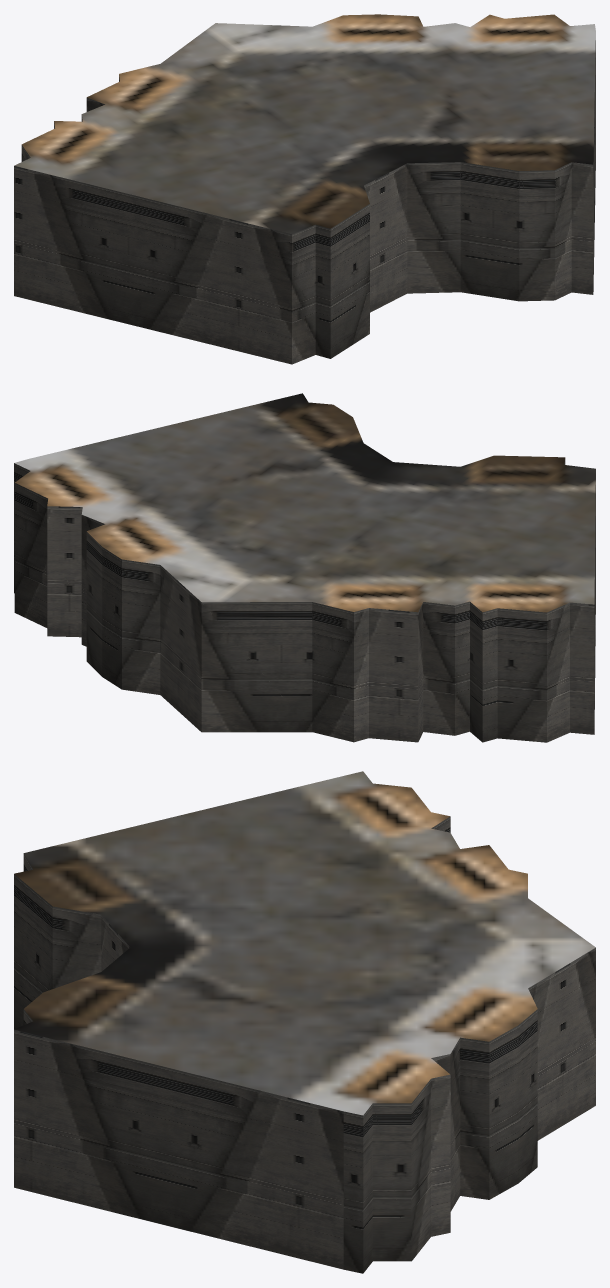
Rendered from fortress_light_a_20.glb.
3 views of the same model, one above another, from view 1: azimuth 30°, elevation 25°; view 2: azimuth 150°, elevation 25°; view 3: azimuth 270°, elevation 25° (orthographic). The views are drawn at different scales.
Visible parts, largest first — view 1: buildings/saxarba/fortress_light/fortress_light_a_20; view 2: buildings/saxarba/fortress_light/fortress_light_a_20; view 3: buildings/saxarba/fortress_light/fortress_light_a_20.
Part boxes in pixels (x1,y1,x2,y2): buildings/saxarba/fortress_light/fortress_light_a_20: (14, 14, 595, 364); buildings/saxarba/fortress_light/fortress_light_a_20: (14, 393, 595, 742); buildings/saxarba/fortress_light/fortress_light_a_20: (14, 771, 595, 1273).
Size of the model in its own units: 84 by 18 by 60.
